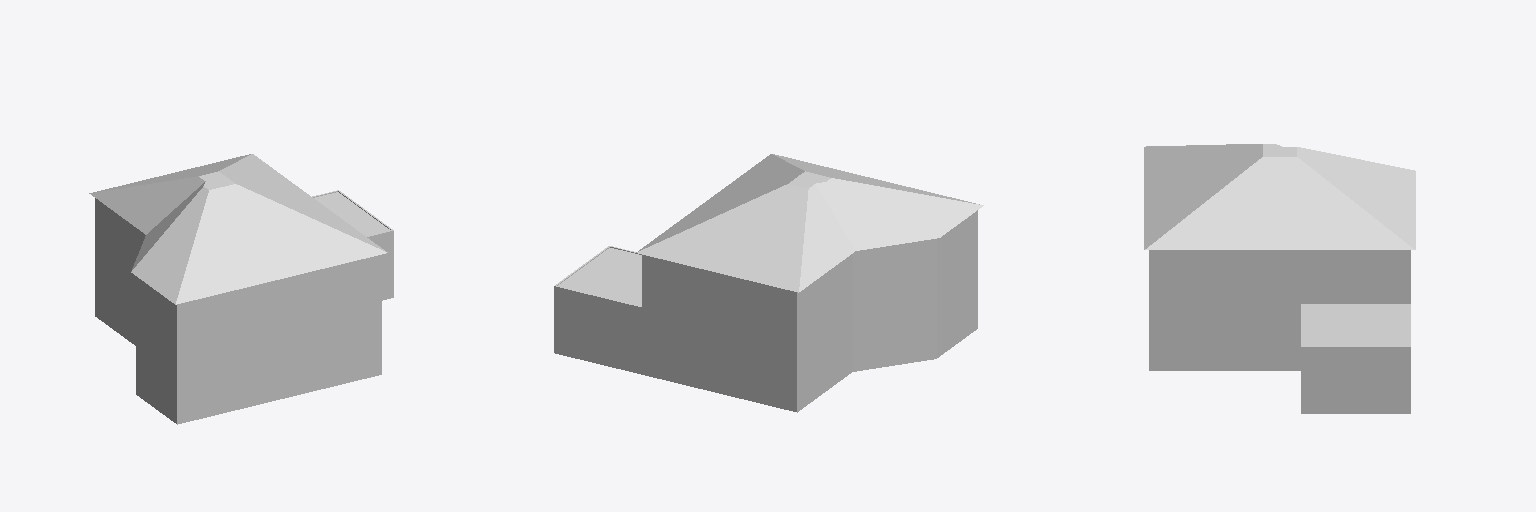
File: Chicken Coop 1.obj
3 renders of one model, left to right at view 1: azimuth 30°, elevation 25°; view 2: azimuth 150°, elevation 25°; view 3: azimuth 270°, elevation 25°, orthographic.
Visible parts, largest first — view 1: House_38; view 2: House_38; view 3: House_38.
Boxes of the visible parts, box(x1,y1,x2,y2) form: House_38: box(89, 154, 393, 424); House_38: box(554, 154, 983, 412); House_38: box(1144, 144, 1415, 413).
Size of the model in its own units: 764 by 420 by 605.